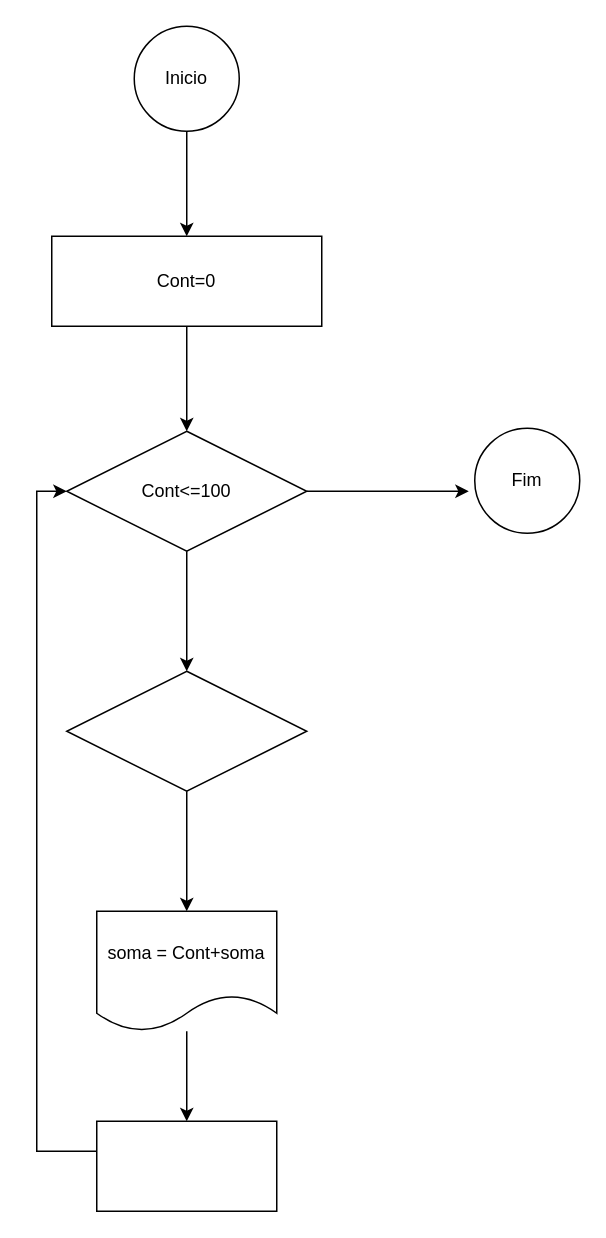
Image size: 606x1238. Some labels were removed from this diagram. Each missing label, with the centre of its shape:
Cont%2=0: point 186,730
Cont++: point 186,1165
